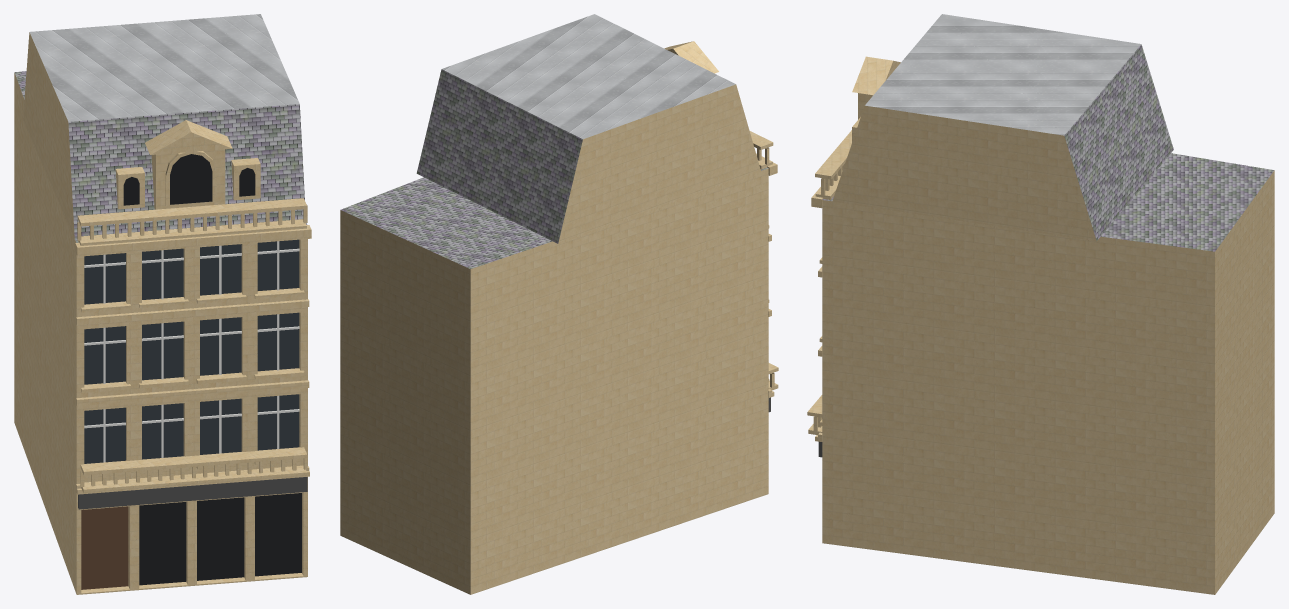
3 views of the same model, side by side, from view 1: azimuth 30°, elevation 25°; view 2: azimuth 150°, elevation 25°; view 3: azimuth 270°, elevation 25° (orthographic). The views are drawn at different scales.
Parts seen in each view (by area): view 1: bldg_496929345_landmark; view 2: bldg_496929345_landmark; view 3: bldg_496929345_landmark.
Boxes of the visible parts, x1,y1,x2,y2 form: bldg_496929345_landmark: (14, 14, 311, 594); bldg_496929345_landmark: (340, 14, 778, 594); bldg_496929345_landmark: (807, 14, 1274, 594).
Size of the model in its own units: 13 by 18.5 by 17.64.
8 materials, 3 textured.
